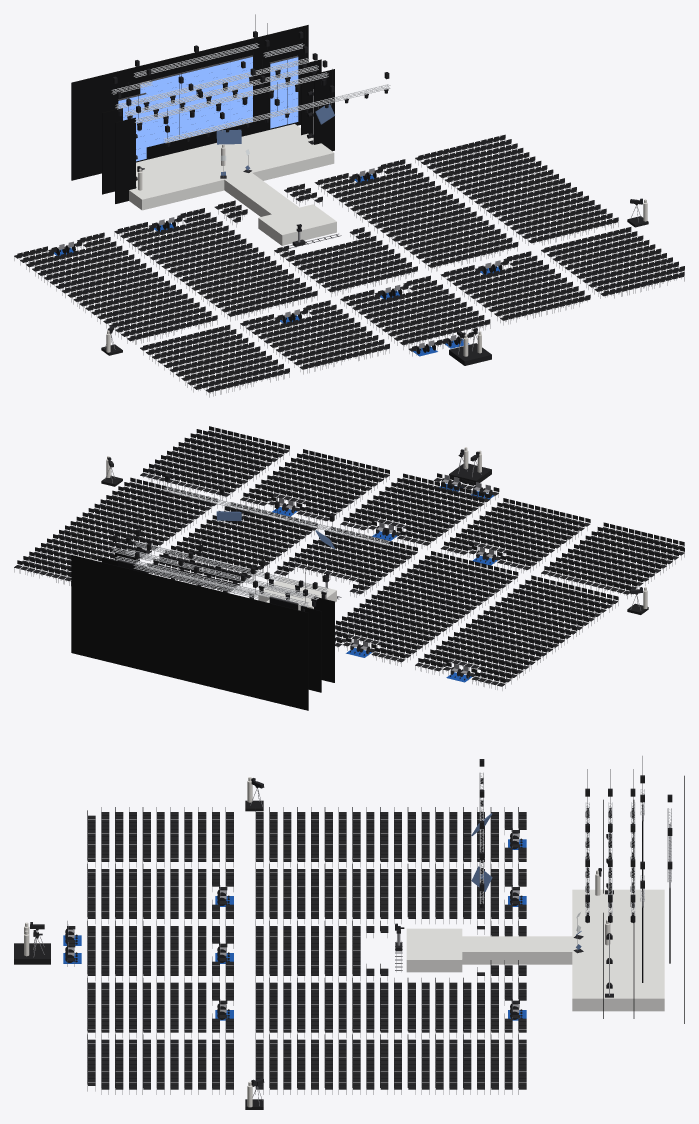
File: product-launch.glb
3 renders of one model, top to bottom at view 1: azimuth 30°, elevation 25°; view 2: azimuth 150°, elevation 25°; view 3: azimuth 270°, elevation 25°, orthographic. The views are drawn at different scales.
Parts seen in each view (by area): view 1: SCN.DRAPE.US, SCN.MASK.L1, SCN.MASK.R1, SCN.MASK.L2, FASCIA.MAIN.FRONT, SCN.MASK.R2, FASCIA.MAIN.FRONT.1, FASCIA.BSTAGE.FRONT, BC.PLATFORM.FOH; view 2: SCN.DRAPE.US, SCN.MASK.L1, SCN.MASK.L2, BC.PLATFORM.FOH; view 3: FASCIA.RUNWAY.RIGHT.1, FASCIA.MAIN.RIGHT.3, FASCIA.BSTAGE.RIGHT.4, BC.PLATFORM.FOH.
Boxes of the visible parts, x1,y1,x2,y2 form: SCN.DRAPE.US: (71, 25, 308, 180); SCN.MASK.L1: (115, 117, 135, 203); SCN.MASK.R1: (314, 69, 334, 151); SCN.MASK.L2: (102, 109, 122, 194); FASCIA.MAIN.FRONT: (142, 180, 224, 210); SCN.MASK.R2: (301, 59, 321, 135); FASCIA.MAIN.FRONT.1: (252, 153, 334, 180); FASCIA.BSTAGE.FRONT: (282, 222, 336, 245); BC.PLATFORM.FOH: (449, 343, 491, 365); SCN.DRAPE.US: (71, 555, 308, 710); SCN.MASK.L1: (314, 596, 334, 682); SCN.MASK.L2: (301, 606, 321, 692); BC.PLATFORM.FOH: (449, 463, 491, 485); FASCIA.RUNWAY.RIGHT.1: (462, 952, 572, 964); FASCIA.MAIN.RIGHT.3: (572, 998, 664, 1011); FASCIA.BSTAGE.RIGHT.4: (406, 959, 461, 972); BC.PLATFORM.FOH: (14, 943, 50, 964).
Bounding box in the file's own units: 48.07 × 11.34 × 44.4.
